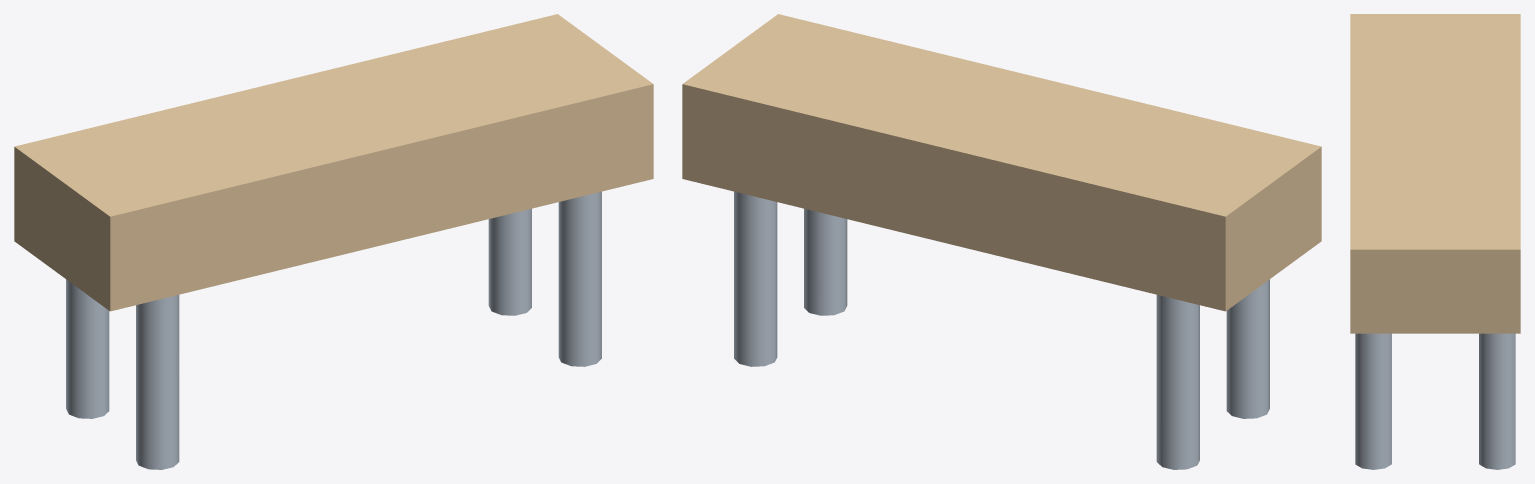
The model's file is ppe_bench.glb.
The picture shows the model from 3 angles, left to right: view 1: azimuth 30°, elevation 25°; view 2: azimuth 150°, elevation 25°; view 3: azimuth 270°, elevation 25°; orthographic projection. The views are drawn at different scales.
Visible parts, largest first — view 1: ppe bench wooden seat, bench round leg (×4); view 2: ppe bench wooden seat, bench round leg (×4); view 3: ppe bench wooden seat, bench round leg (×2).
Boxes of the visible parts, <box> form: ppe bench wooden seat: <box>14,14,653,311</box>; bench round leg (×4): <box>66,191,601,469</box>; ppe bench wooden seat: <box>682,14,1321,311</box>; bench round leg (×4): <box>734,191,1269,469</box>; ppe bench wooden seat: <box>1350,14,1520,333</box>; bench round leg (×2): <box>1355,333,1515,469</box>.
Size of the model in its own units: 0.72 by 0.34 by 0.22.
